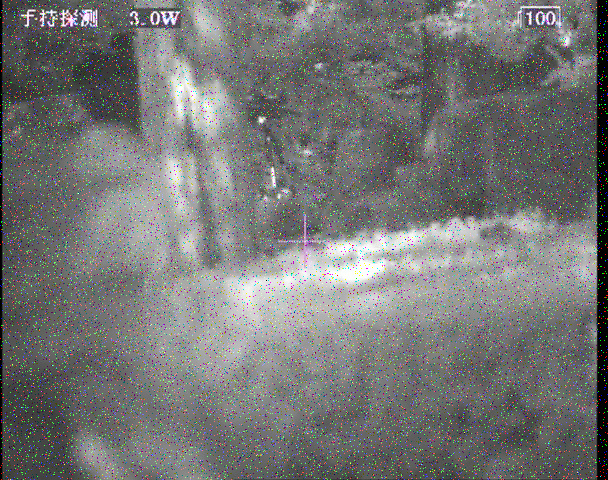my: (257, 115, 267, 125)
